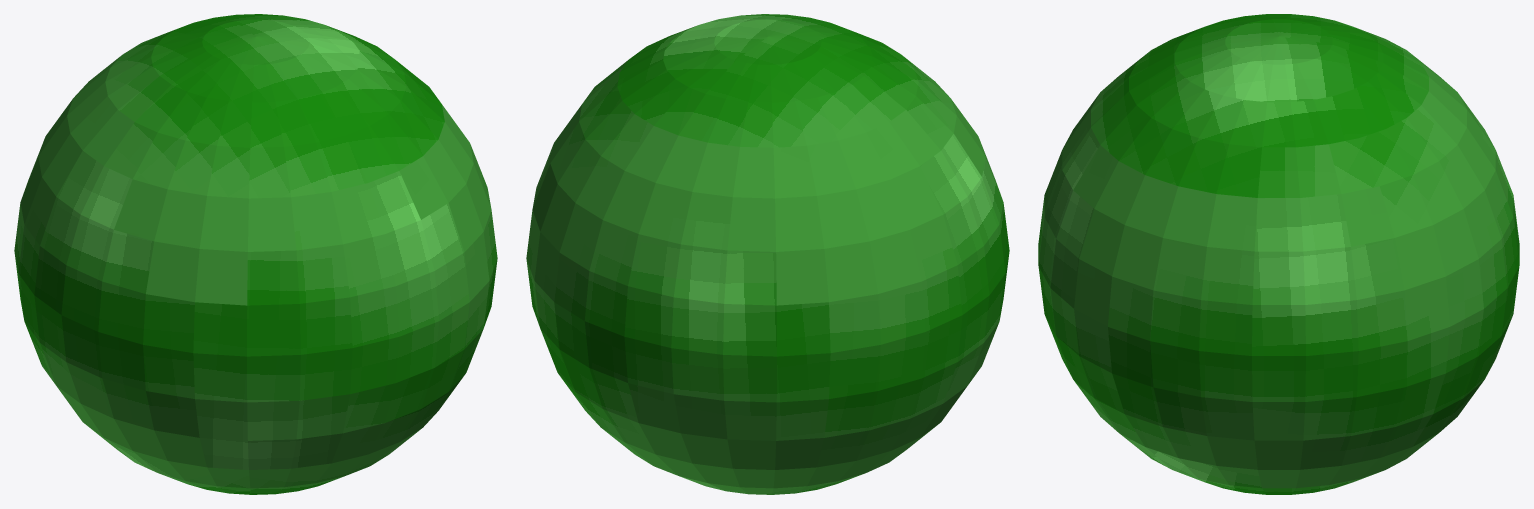
The model's file is fluid.fbx.
The picture shows the model from 3 angles, left to right: view 1: azimuth 30°, elevation 25°; view 2: azimuth 150°, elevation 25°; view 3: azimuth 270°, elevation 25°; orthographic projection.
Visible parts, largest first — view 1: sphere; view 2: sphere; view 3: sphere.
Boxes of the visible parts, box(x1,y1,x2,y2) form: sphere: box(14, 14, 497, 494); sphere: box(526, 14, 1009, 494); sphere: box(1038, 14, 1519, 494).
Bounding box in the file's own units: 100 × 100 × 100.
1 material, 1 textured.
